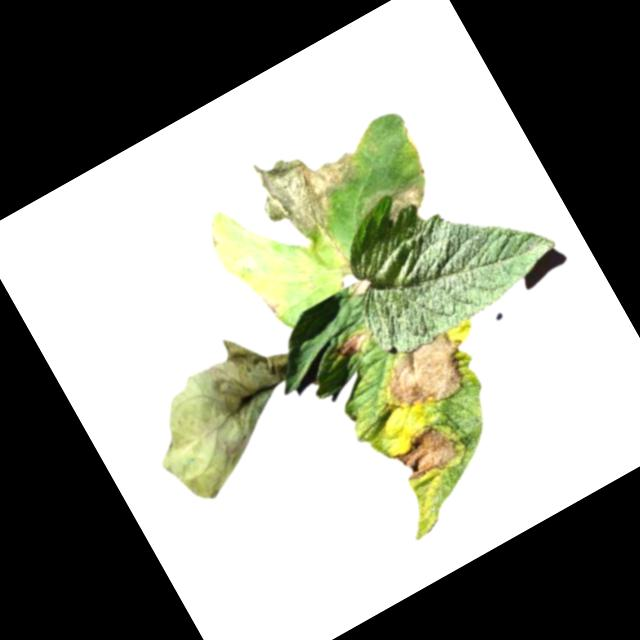Late_blight: (120, 313, 332, 514), (241, 119, 382, 256), (373, 324, 484, 425), (384, 414, 467, 491), (377, 176, 430, 229), (251, 279, 289, 323), (332, 326, 375, 363), (293, 260, 326, 295), (395, 121, 424, 155), (346, 276, 376, 302)
healthy: (316, 134, 567, 364)
